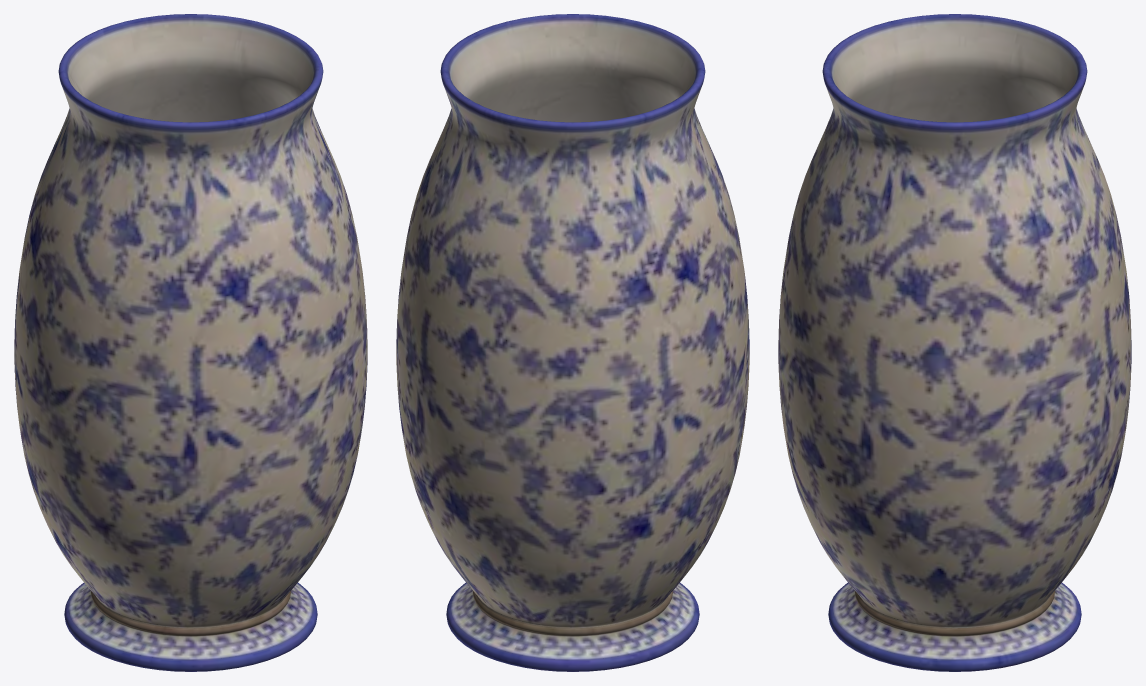
The model's file is vase.glb.
3 renders of one model, left to right at view 1: azimuth 30°, elevation 25°; view 2: azimuth 150°, elevation 25°; view 3: azimuth 270°, elevation 25°, orthographic.
Parts seen in each view (by area): view 1: antique_ceramic_vase_01; view 2: antique_ceramic_vase_01; view 3: antique_ceramic_vase_01.
Part boxes in pixels (x1=…): antique_ceramic_vase_01: x1=14, y1=14, x2=367, y2=671; antique_ceramic_vase_01: x1=396, y1=14, x2=749, y2=671; antique_ceramic_vase_01: x1=778, y1=14, x2=1131, y2=671.
Size of the model in its own units: 0.255 by 0.4396 by 0.255.
1 material, 1 textured.
